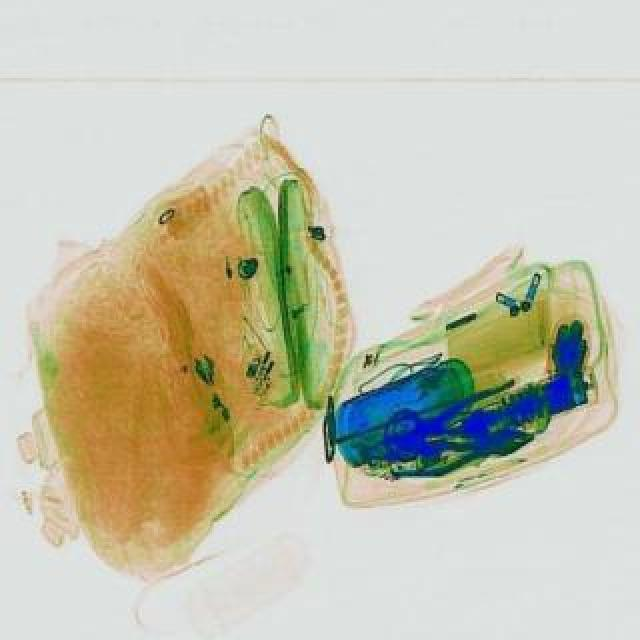wrench: (372, 376, 526, 460), (386, 418, 538, 482)
